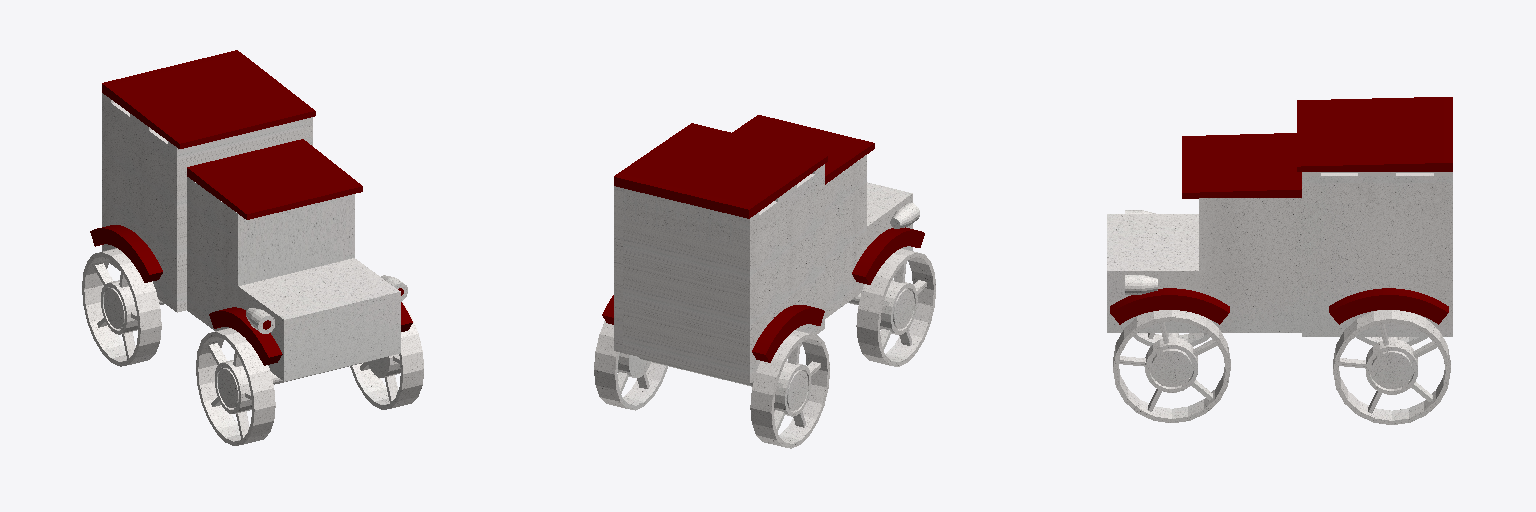
3 renders of one model, left to right at view 1: azimuth 30°, elevation 25°; view 2: azimuth 150°, elevation 25°; view 3: azimuth 270°, elevation 25°, orthographic.
Parts seen in each view (by area): view 1: polySurface3 group3 Kamyon, group3 Kamyon pCube6, group3 Kamyon pCube5, group3 Kamyon teker_1, group3 Kamyon teker_2, group3 Kamyon teker_3, group3 Kamyon pCube8, group3 Kamyon pCube7, group3 Kamyon pCylinder3; view 2: polySurface3 group3 Kamyon, group3 Kamyon pCube6, group3 Kamyon teker_1, group3 Kamyon teker_2, group3 Kamyon teker_4, group3 Kamyon pCube5, group3 Kamyon pCube8, group3 Kamyon pCube7, group3 Kamyon pCylinder3; view 3: polySurface3 group3 Kamyon, group3 Kamyon pCube6, group3 Kamyon pCube5, group3 Kamyon teker_4, group3 Kamyon teker_3, group3 Kamyon pCube9, group3 Kamyon pCube10, group3 Kamyon pCylinder4.
Boxes of the visible parts, x1=… form: polySurface3 group3 Kamyon: x1=102, y1=93, x2=400, y2=381; group3 Kamyon pCube6: x1=102, y1=50, x2=315, y2=148; group3 Kamyon pCube5: x1=187, y1=139, x2=362, y2=219; group3 Kamyon teker_1: x1=196, y1=328, x2=275, y2=445; group3 Kamyon teker_2: x1=82, y1=248, x2=161, y2=366; group3 Kamyon teker_3: x1=350, y1=301, x2=423, y2=409; group3 Kamyon pCube8: x1=90, y1=225, x2=162, y2=282; group3 Kamyon pCube7: x1=209, y1=307, x2=282, y2=365; group3 Kamyon pCylinder3: x1=246, y1=308, x2=274, y2=333; polySurface3 group3 Kamyon: x1=614, y1=155, x2=912, y2=383; group3 Kamyon pCube6: x1=614, y1=123, x2=827, y2=218; group3 Kamyon teker_1: x1=856, y1=249, x2=935, y2=366; group3 Kamyon teker_2: x1=750, y1=330, x2=829, y2=448; group3 Kamyon teker_4: x1=594, y1=321, x2=667, y2=410; group3 Kamyon pCube5: x1=732, y1=115, x2=874, y2=184; group3 Kamyon pCube8: x1=752, y1=305, x2=824, y2=362; group3 Kamyon pCube7: x1=852, y1=227, x2=924, y2=284; group3 Kamyon pCylinder3: x1=890, y1=203, x2=919, y2=228; polySurface3 group3 Kamyon: x1=1107, y1=172, x2=1452, y2=336; group3 Kamyon pCube6: x1=1297, y1=97, x2=1452, y2=171; group3 Kamyon pCube5: x1=1182, y1=133, x2=1301, y2=198; group3 Kamyon teker_4: x1=1333, y1=310, x2=1450, y2=424; group3 Kamyon teker_3: x1=1113, y1=310, x2=1230, y2=422; group3 Kamyon pCube9: x1=1329, y1=288, x2=1448, y2=324; group3 Kamyon pCube10: x1=1110, y1=288, x2=1229, y2=324; group3 Kamyon pCylinder4: x1=1125, y1=275, x2=1157, y2=294.
Size of the model in its own units: 12.62 by 17.13 by 21.32.
3 materials, 1 textured.